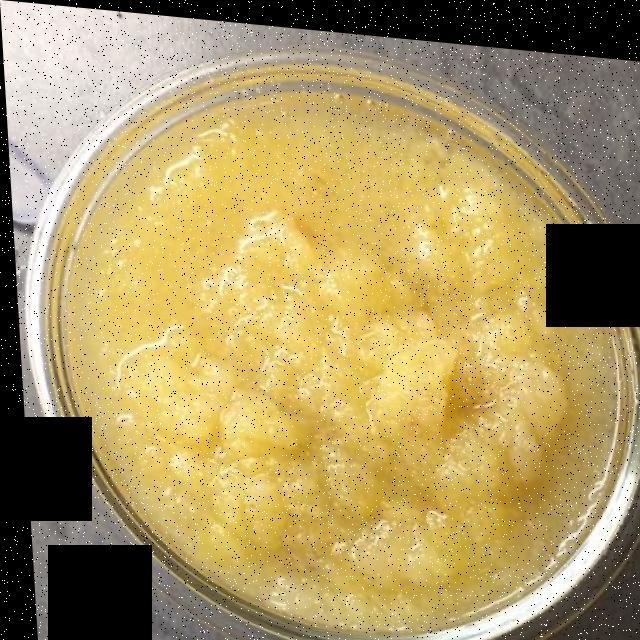applesauce: (68, 92, 598, 614)
